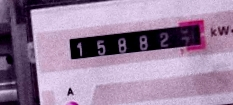1: (74, 40, 84, 57)
2: (157, 29, 169, 47)
5: (94, 37, 106, 54)
7: (180, 34, 190, 46)
8: (136, 33, 148, 51), (115, 36, 127, 53)
screen: (60, 14, 212, 69)
